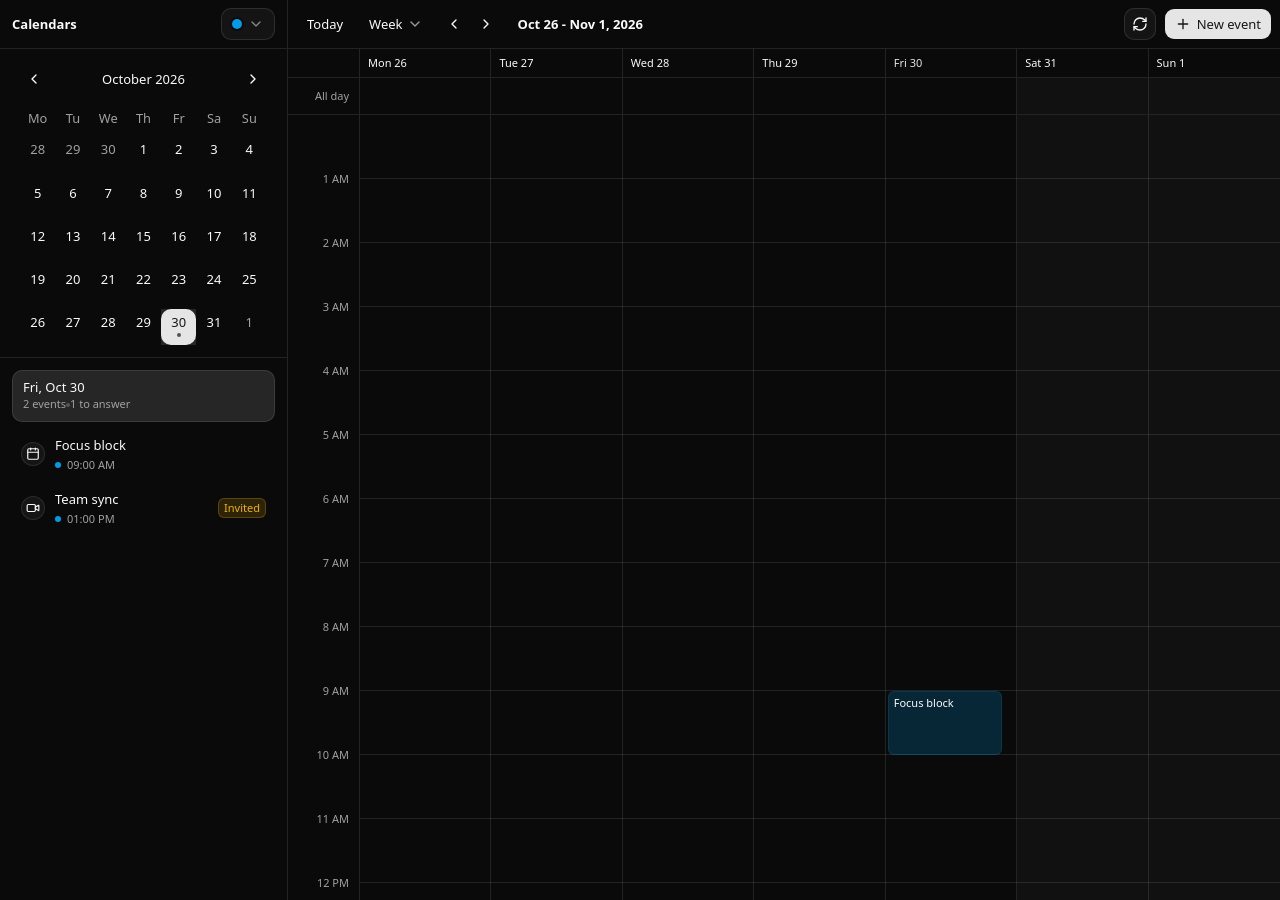
Test case: the calendar view › an event of your own opens, and editing it reschedules it by its Google id
This screenshot has width=1280, height=900.
Click the text "Focus block" below "events". click: (90, 445)
box: [55,436,126,454]
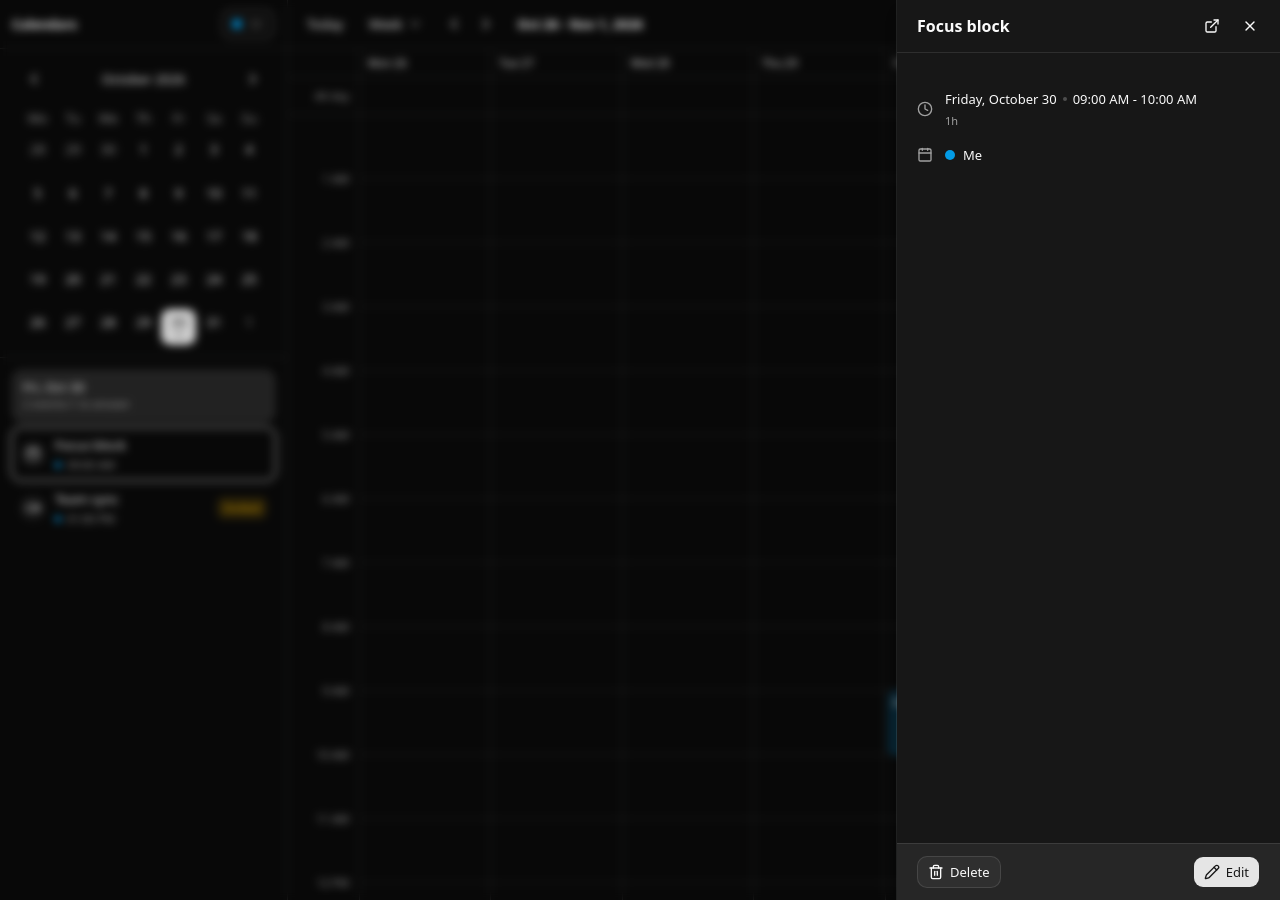
Click the button "Edit". click: (1226, 872)
box: [1193,856,1260,888]
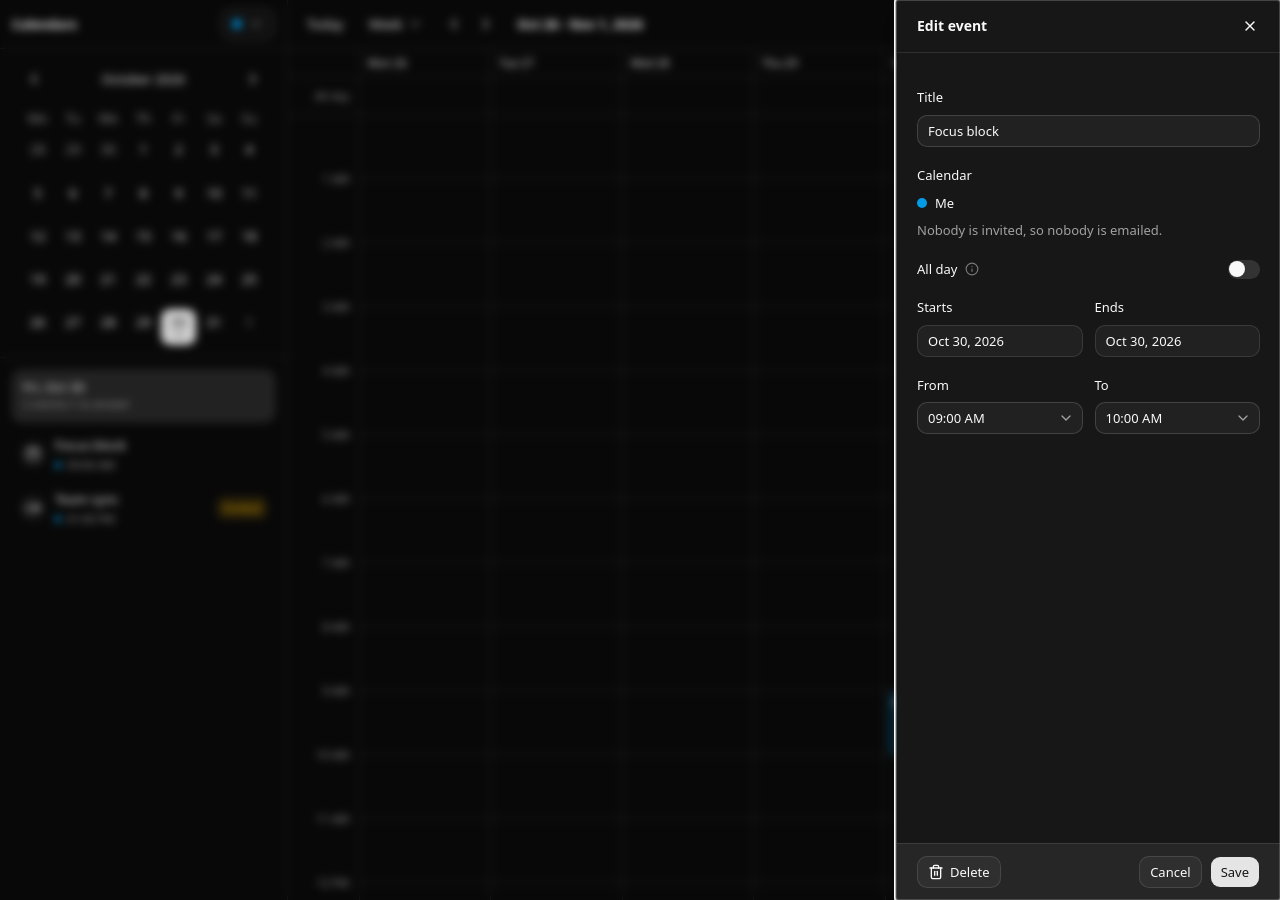
Replace the text in the field labelled "Title" with "Deep work". click: (1088, 131)
box: [917,115,1260,147]
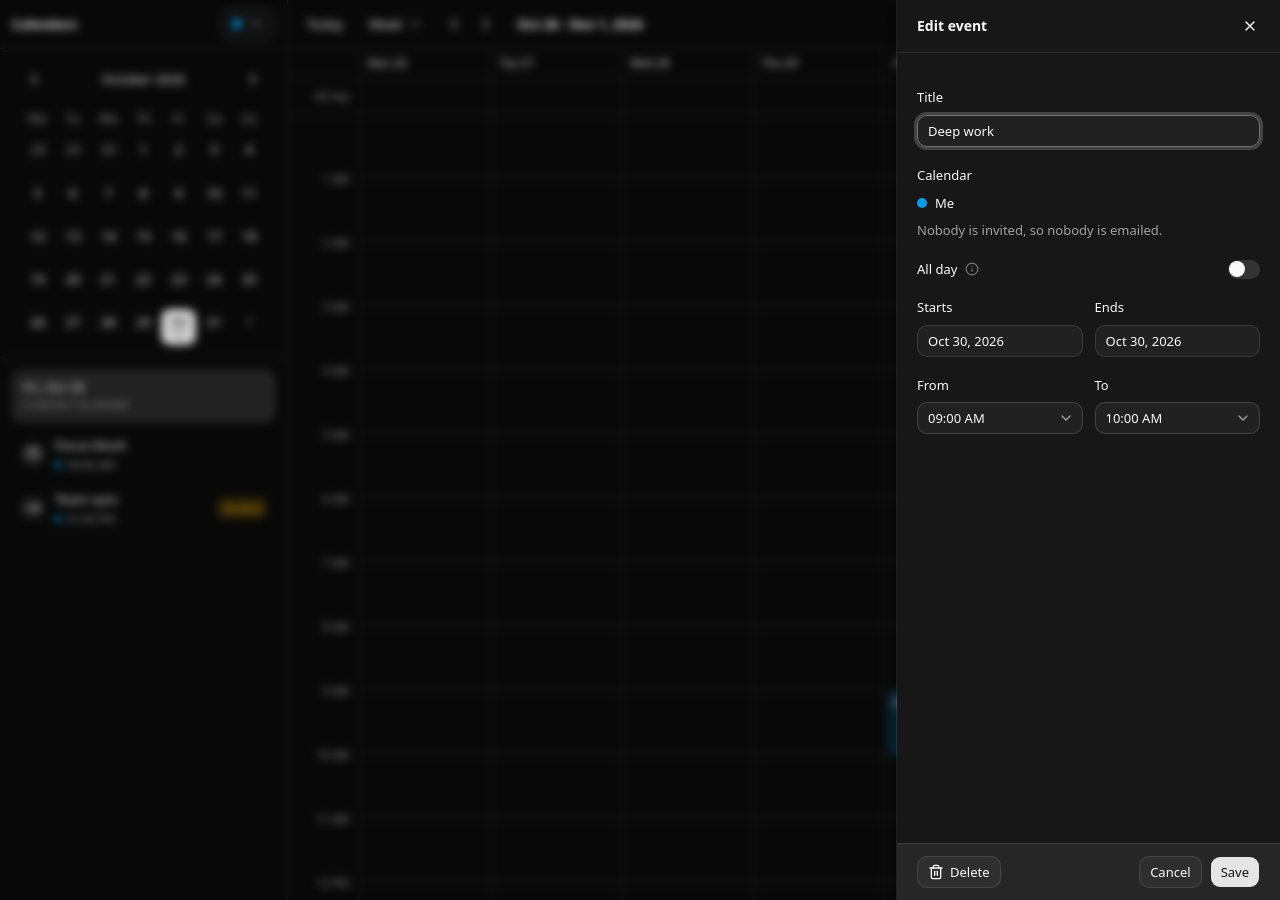
Click the button "Save". click: (1235, 872)
box: [1210,856,1260,888]
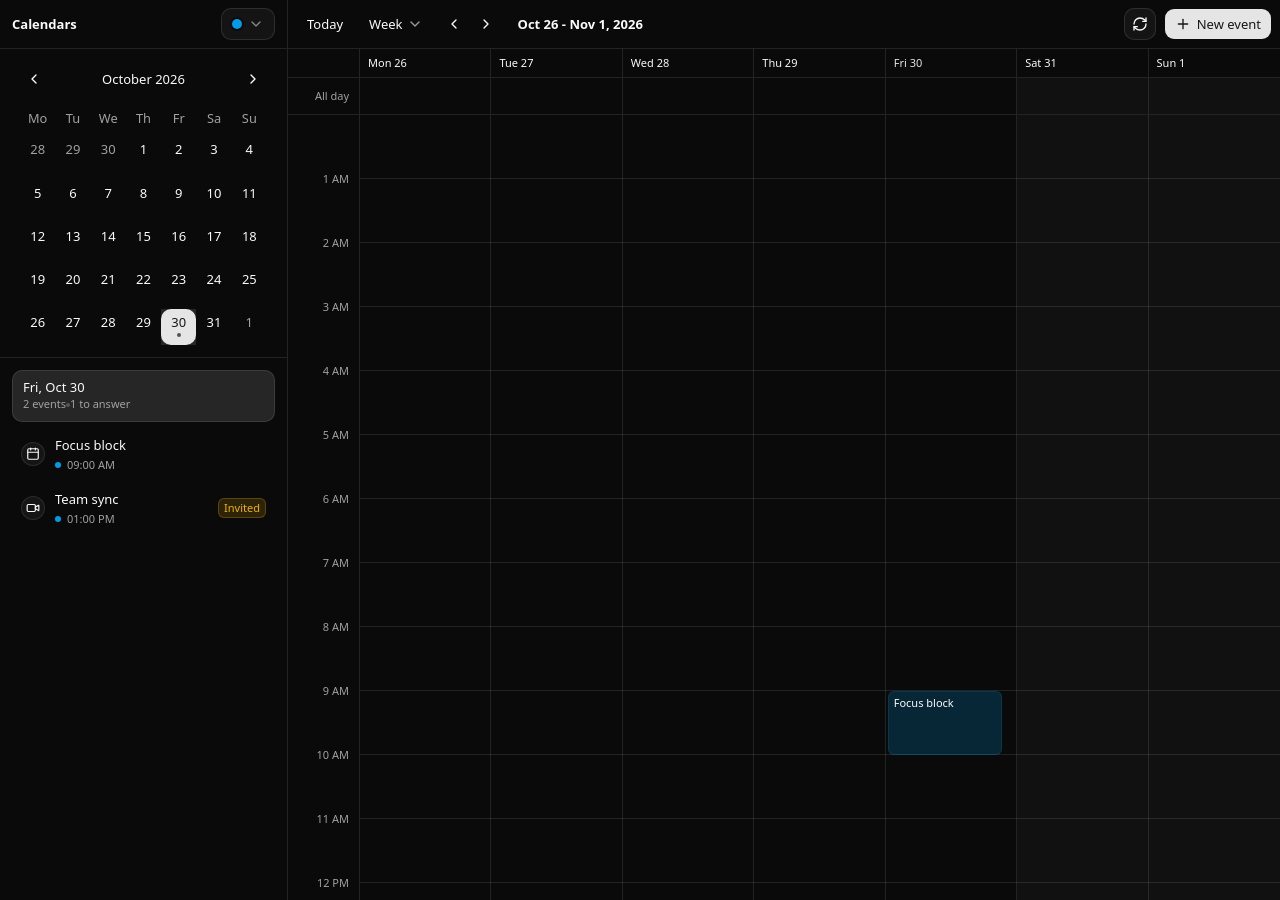
Now the dialog is gone
